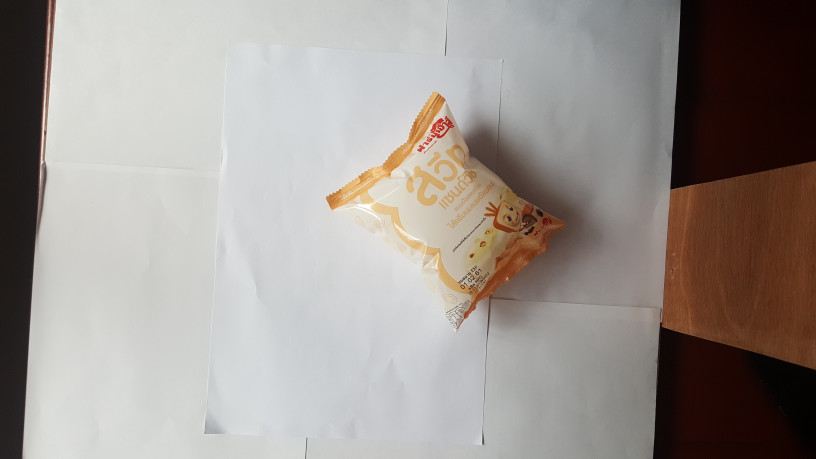farmhouse-sweetsandwich-almond: (319, 88, 571, 334)
